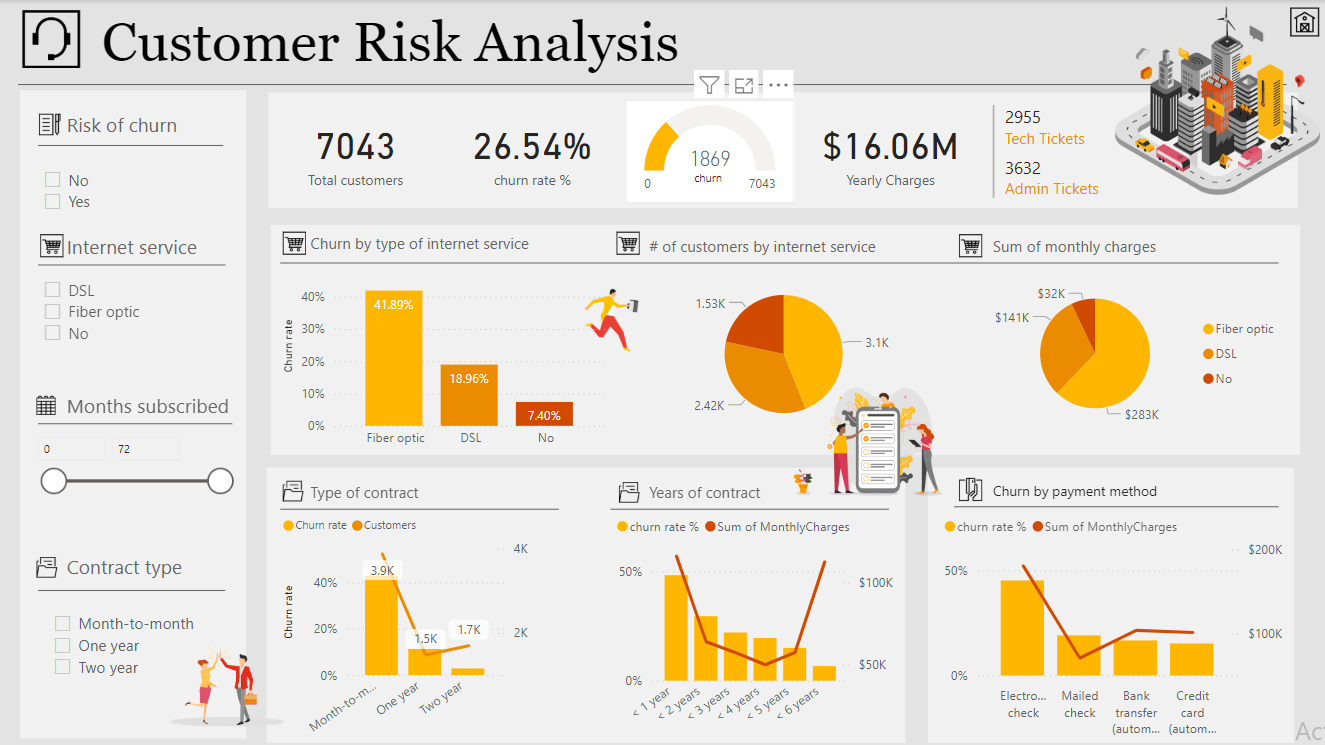

This screenshot's page, from the dashboard's own definition file:
{"tool":"powerbi","page":{"name":"Customer Risk Analysis","canvas":[1280,720],"ordinal":2},"visuals":[{"type":"basicShape","box":[249.8,87.8,1013.8,113.8],"z":0},{"type":"basicShape","box":[892.2,448.5,360.8,271],"z":1000},{"type":"basicShape","box":[251.8,448.5,628.9,271],"z":2000},{"type":"textbox","box":[94.5,4.8,1167.1,75.2],"z":3000},{"type":"basicShape","box":[9,61,1244.3,40.1],"z":4000},{"type":"basicShape","box":[251.8,214.2,1013.8,226.7],"z":5000},{"type":"basicShape","box":[18.3,81,222.8,638.6],"z":6000},{"type":"card","fields":{"Values":["churn.customerID"]},"box":[261.4,89,164.9,113.8],"z":7000},{"type":"gauge","fields":{"MaxValue":["churn.customerID"],"Y":["churn.Count of Churn for Yes"]},"box":[603.8,96.2,164,99.4],"z":8000},{"type":"slicer","fields":{"Values":["churn.Contract"]},"box":[40.5,584.5,178.4,79.1],"z":9000},{"type":"card","fields":{"Values":["churn.TotalCharges"]},"box":[778.4,89,164.9,113.8],"z":10000},{"type":"slicer","fields":{"Values":["churn.Churn"]},"box":[31.8,156.3,173.6,57.9],"z":11000},{"type":"image","box":[557.5,242.1,66.6,129.3],"z":12000},{"type":"image","box":[150.5,610.6,136,105.1],"z":13000},{"type":"slicer","title":"Number of months subscribed","fields":{"Values":["churn.tenure"]},"box":[24.1,410.9,210.3,70.4],"z":14000},{"type":"image","box":[17.4,4.8,67.5,65.6],"z":15000},{"type":"textbox","box":[59.8,102.2,174.6,40.5],"z":16000},{"type":"basicShape","box":[28,120.6,198.7,39.5],"z":17000},{"type":"textbox","box":[59.8,374.3,185.2,39.5],"z":18000},{"type":"basicShape","box":[28,389.7,207.4,38.6],"z":19000},{"type":"basicShape","box":[28,549.8,200.6,39.5],"z":20000},{"type":"image","box":[31.8,374.3,28,34.7],"z":21000},{"type":"textbox","box":[59.8,529.6,159.2,40.5],"z":22000},{"type":"image","box":[31.8,105.1,34.7,30.9],"z":23000},{"type":"image","box":[31.8,524.7,29.9,45.3],"z":24000},{"type":"textbox","box":[59.8,221.2,180.4,40.5],"z":25000},{"type":"basicShape","box":[28,237,200.6,38.6],"z":26000},{"type":"slicer","fields":{"Values":["churn.InternetService"]},"box":[31.8,263.3,200.6,78.1],"z":27000},{"type":"card","fields":{"Values":["churn.churn rate %"]},"box":[437,89,156.3,113.8],"z":28000},{"type":"lineClusteredColumnComboChart","fields":{"Category":["churn.Contract"],"Y":["churn.churn rate %"],"Y2":["churn.customerID"]},"box":[269.1,489,246.9,230.5],"z":29000},{"type":"lineClusteredColumnComboChart","fields":{"Y":["churn.churn rate %"],"Y2":["churn.MonthlyCharges"],"Category":["churn.Loyalty"]},"box":[591.3,489,276.8,230.5],"z":30000},{"type":"textbox","box":[296.1,220,300.9,40.5],"z":31000},{"type":"basicShape","box":[261.4,234.4,982.9,39.5],"z":32000},{"type":"clusteredColumnChart","fields":{"Category":["churn.InternetService"],"Y":["churn.churn rate %"]},"box":[269.1,242.1,322.2,198.7],"z":33000},{"type":"pieChart","fields":{"Y":["churn.MonthlyCharges"],"Category":["churn.InternetService"]},"box":[949.1,264.3,295.2,154.3],"z":34000},{"type":"pieChart","fields":{"Category":["churn.InternetService"],"Y":["churn.customerID"]},"box":[622.2,261.4,270.1,160.1],"z":35000},{"type":"textbox","box":[954,221.9,283.6,40.5],"z":36000},{"type":"textbox","box":[622.2,221.9,285.5,40.5],"z":37000},{"type":"basicShape","box":[261.4,471.7,288.4,39.5],"z":38000},{"type":"textbox","box":[296.1,459.1,237.3,40.5],"z":39000},{"type":"textbox","box":[622.2,459.1,270.1,40.5],"z":40000},{"type":"basicShape","box":[579.7,471.7,288.4,39.5],"z":41000},{"type":"lineClusteredColumnComboChart","fields":{"Y":["churn.churn rate %"],"Y2":["churn.MonthlyCharges"],"Category":["churn.PaymentMethod"]},"box":[907.7,489,336.6,230.5],"z":42000},{"type":"basicShape","box":[911.5,469.8,332.8,39.5],"z":43000},{"type":"textbox","box":[954.3,459.1,270.1,40.5],"z":44000},{"type":"multiRowCard","fields":{"Values":["churn.numTechTickets","churn.numAdminTickets"]},"box":[954,96.2,207.4,99.4],"z":45000},{"type":"image","box":[922.1,452.4,31.8,39.5],"z":46000},{"type":"image","box":[593.2,452.4,29.9,45.3],"z":47000},{"type":"image","box":[269.1,451.4,29.9,45.3],"z":48000},{"type":"image","box":[34.7,219.9,31.8,34.7],"z":49000},{"type":"image","box":[269.1,217,31.8,34.7],"z":50000},{"type":"image","box":[591.3,217,31.8,34.7],"z":51000},{"type":"image","box":[922.1,219.9,31.8,34.7],"z":52000},{"type":"textbox","box":[666.5,156.3,57.9,28.9],"z":53000},{"type":"image","box":[1072.6,0,207.4,193.9],"z":54000},{"type":"image","box":[1242,0,38,42.9],"z":55000},{"type":"image","box":[752.4,361.7,191,129.3],"z":56000}]}

Visuals, with their boxes in screenshot pixels (x1, y1, x2, y2), scaled from the page's 1280x720 canvas onto the 1325x745 screenshot:
basicShape: bbox=(259, 91, 1308, 209)
basicShape: bbox=(924, 464, 1297, 744)
basicShape: bbox=(261, 464, 912, 744)
textbox: bbox=(98, 5, 1306, 83)
basicShape: bbox=(9, 63, 1297, 105)
basicShape: bbox=(261, 222, 1310, 456)
basicShape: bbox=(19, 84, 250, 744)
card - churn.customerID: bbox=(271, 92, 441, 210)
gauge - churn.customerID x churn.Count of Churn for Yes: bbox=(625, 100, 795, 202)
slicer - churn.Contract: bbox=(42, 605, 227, 687)
card - churn.TotalCharges: bbox=(806, 92, 976, 210)
slicer - churn.Churn: bbox=(33, 162, 213, 222)
image: bbox=(577, 251, 646, 384)
image: bbox=(156, 632, 297, 741)
"Number of months subscribed" slicer: bbox=(25, 425, 243, 498)
image: bbox=(18, 5, 88, 73)
textbox: bbox=(62, 106, 243, 148)
basicShape: bbox=(29, 125, 235, 166)
textbox: bbox=(62, 387, 254, 428)
basicShape: bbox=(29, 403, 244, 443)
basicShape: bbox=(29, 569, 237, 610)
image: bbox=(33, 387, 62, 423)
textbox: bbox=(62, 548, 227, 590)
image: bbox=(33, 109, 69, 141)
image: bbox=(33, 543, 64, 590)
textbox: bbox=(62, 229, 249, 271)
basicShape: bbox=(29, 245, 237, 285)
slicer - churn.InternetService: bbox=(33, 272, 241, 353)
card - churn.churn rate %: bbox=(452, 92, 614, 210)
lineClusteredColumnComboChart - churn.Contract x churn.churn rate %: bbox=(279, 506, 534, 744)
lineClusteredColumnComboChart - churn.churn rate % x churn.MonthlyCharges: bbox=(612, 506, 899, 744)
textbox: bbox=(307, 228, 618, 270)
basicShape: bbox=(271, 243, 1288, 283)
clusteredColumnChart - churn.InternetService x churn.churn rate %: bbox=(279, 251, 612, 456)
pieChart - churn.MonthlyCharges x churn.InternetService: bbox=(982, 273, 1288, 433)
pieChart - churn.InternetService x churn.customerID: bbox=(644, 270, 924, 436)
textbox: bbox=(988, 230, 1281, 272)
textbox: bbox=(644, 230, 940, 272)
basicShape: bbox=(271, 488, 569, 529)
textbox: bbox=(307, 475, 552, 517)
textbox: bbox=(644, 475, 924, 517)
basicShape: bbox=(600, 488, 899, 529)
lineClusteredColumnComboChart - churn.churn rate % x churn.MonthlyCharges: bbox=(940, 506, 1288, 744)
basicShape: bbox=(944, 486, 1288, 527)
textbox: bbox=(988, 475, 1267, 517)
multiRowCard - churn.numTechTickets x churn.numAdminTickets: bbox=(988, 100, 1202, 202)
image: bbox=(955, 468, 987, 509)
image: bbox=(614, 468, 645, 515)
image: bbox=(279, 467, 310, 514)
image: bbox=(36, 228, 69, 263)
image: bbox=(279, 225, 311, 260)
image: bbox=(612, 225, 645, 260)
image: bbox=(955, 228, 987, 263)
textbox: bbox=(690, 162, 750, 192)
image: bbox=(1110, 0, 1324, 201)
image: bbox=(1286, 0, 1324, 44)
image: bbox=(779, 374, 977, 508)
